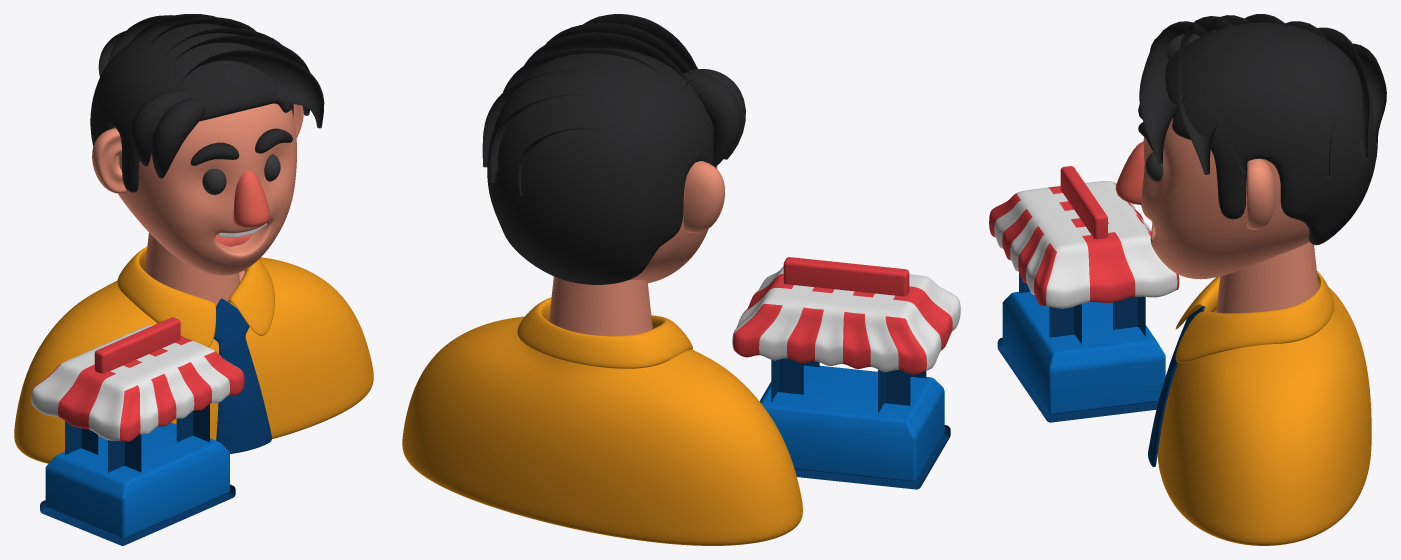
The model's file is seller-3d-animated-icon-1184288932778.glb.
3 renders of one model, left to right at view 1: azimuth 30°, elevation 25°; view 2: azimuth 150°, elevation 25°; view 3: azimuth 270°, elevation 25°, orthographic. The views are drawn at different scales.
Visible parts, largest first — view 1: Cube.012, Plane.004, Cube.008, Cube, Cube.007, Cube.001, Cube.002, Sphere; view 2: Cube.012, Cube.008, Plane.004, Cube.007, Cube; view 3: Cube.012, Cube.008, Plane.004, Cube, Cube.007, Cube.001.
Boxes of the visible parts, box(x1,y1,x2,y2) form: Cube.012: box(14, 246, 373, 463); Plane.004: box(31, 317, 244, 545); Cube.008: box(90, 14, 324, 192); Cube: box(92, 103, 303, 275); Cube.007: box(144, 233, 244, 306); Cube.001: box(233, 171, 269, 227); Cube.002: box(190, 128, 292, 165); Sphere: box(202, 154, 280, 194); Cube.012: box(402, 297, 802, 545); Cube.008: box(482, 14, 745, 284); Plane.004: box(732, 257, 960, 489); Cube.007: box(549, 276, 652, 335); Cube: box(630, 161, 724, 283); Cube.012: box(1148, 271, 1371, 545); Cube.008: box(1139, 14, 1386, 245); Plane.004: box(989, 166, 1179, 422); Cube: box(1141, 118, 1309, 279); Cube.007: box(1213, 242, 1318, 313); Cube.001: box(1115, 141, 1144, 204).
Size of the model in its own units: 2.86 by 2.68 by 2.23.
